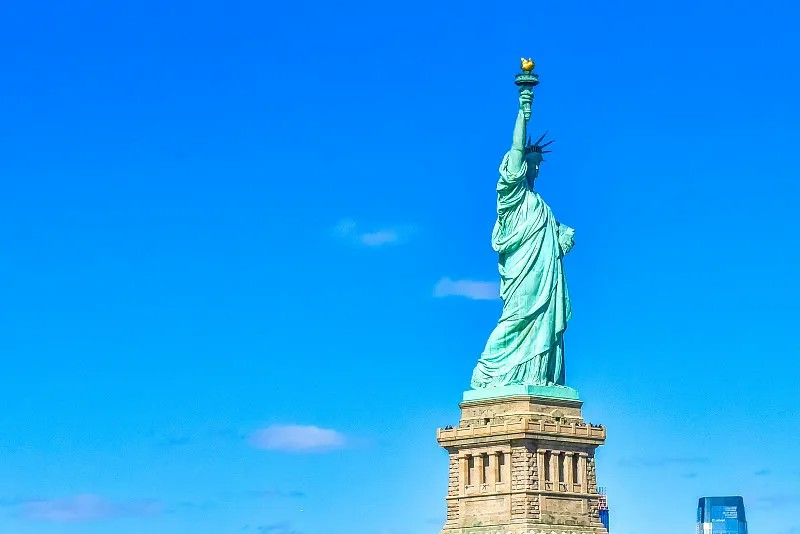SL: (436, 56, 609, 534)
